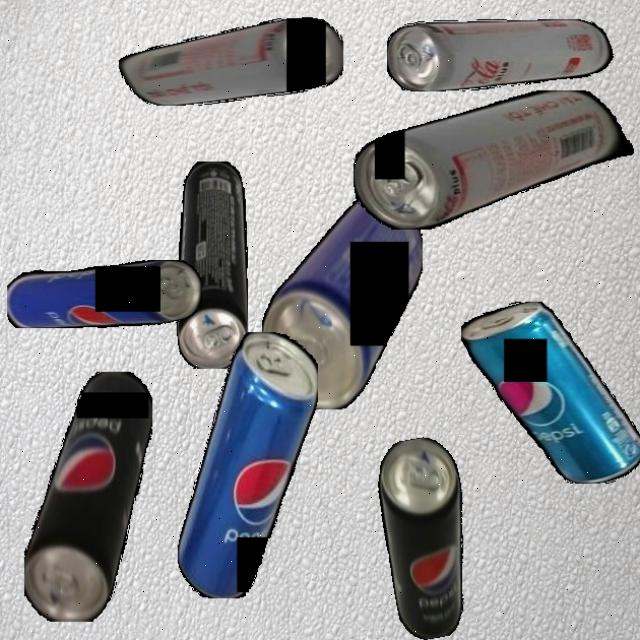debris: (353, 90, 634, 230), (177, 332, 318, 598), (261, 193, 423, 409), (460, 302, 640, 484), (24, 371, 152, 622), (370, 433, 486, 640), (118, 17, 343, 106), (387, 18, 616, 92), (176, 160, 248, 369), (6, 260, 202, 328)
